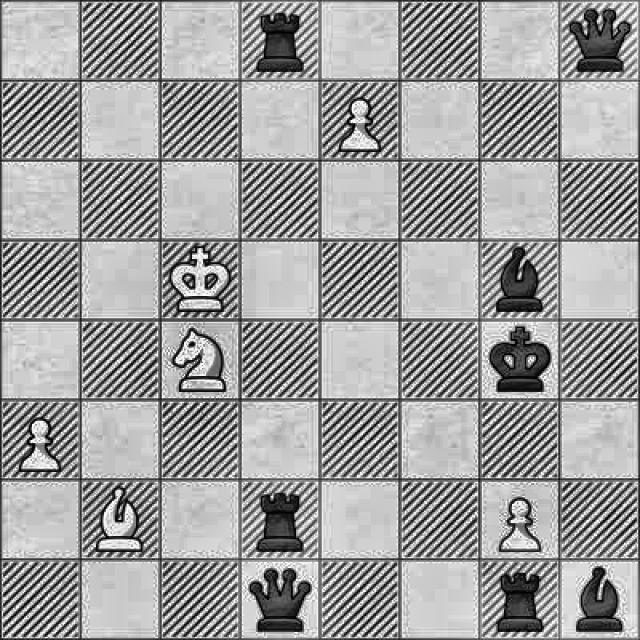black bishop: (564, 563, 633, 638), (490, 242, 552, 317)
black king: (485, 322, 552, 393)
black queen: (565, 2, 636, 81), (246, 564, 314, 639)
black rook: (244, 2, 312, 76), (243, 488, 313, 557), (488, 565, 550, 639)
white bishop: (89, 486, 152, 554)
white king: (168, 244, 234, 316)
white pawn: (488, 486, 554, 556), (328, 88, 392, 158), (8, 415, 67, 474)
whiteknight: (166, 323, 233, 398)
